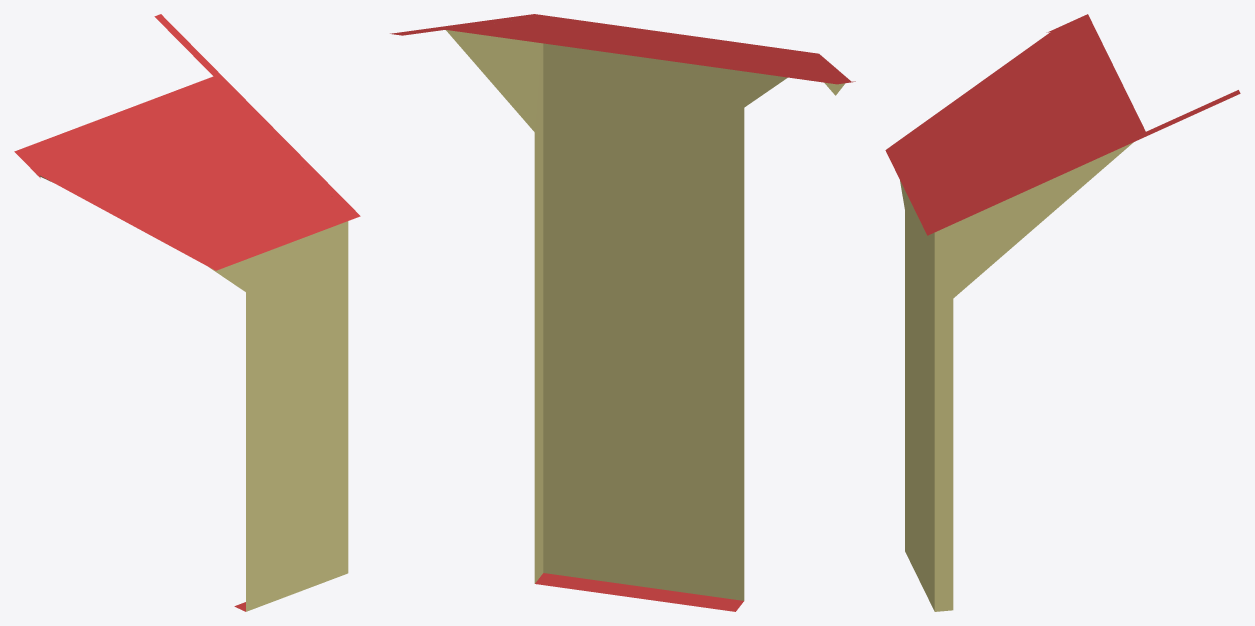
3 views of the same model, side by side, from view 1: azimuth 30°, elevation 25°; view 2: azimuth 150°, elevation 25°; view 3: azimuth 270°, elevation 25° (orthographic). The views are drawn at different scales.
Bounding box in the file's own units: 8.76 × 9.32 × 14.34.
